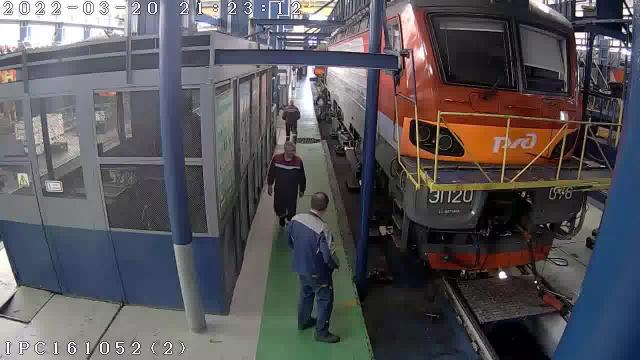person: (288, 192, 339, 342), (268, 141, 305, 226), (282, 100, 300, 141)
train: (376, 0, 586, 272)
